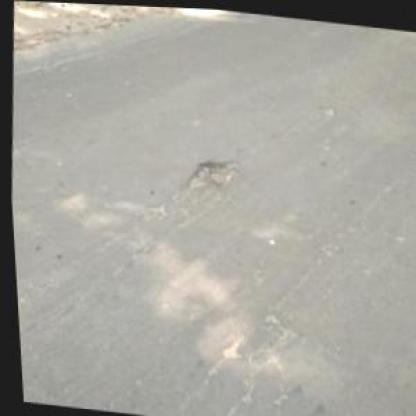pothole: (182, 150, 240, 196), (44, 6, 78, 24), (215, 337, 241, 359), (318, 101, 336, 114), (26, 1, 43, 10), (47, 1, 64, 7)
